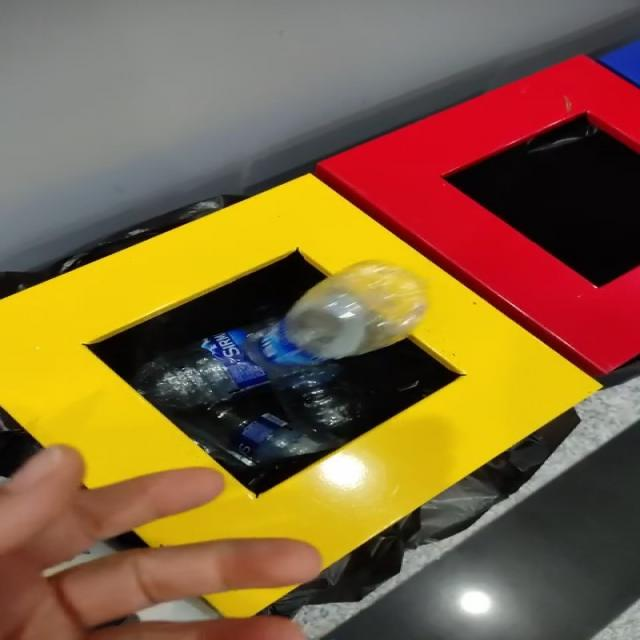plastic: (248, 261, 428, 377), (248, 261, 428, 376)
